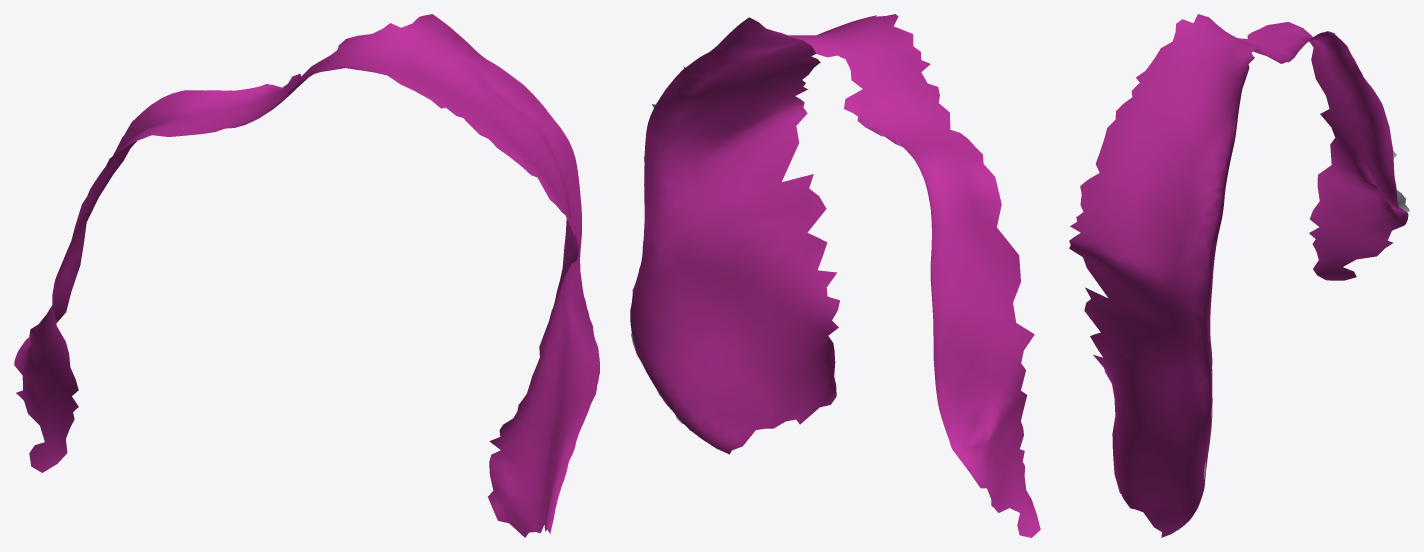
Rendered from Caries_2_N.glb.
3 views of the same model, side by side, from view 1: azimuth 30°, elevation 25°; view 2: azimuth 150°, elevation 25°; view 3: azimuth 270°, elevation 25° (orthographic). The views are drawn at different scales.
Parts seen in each view (by area): view 1: enml.002; view 2: enml.002; view 3: enml.002.
Boxes of the visible parts, <box> form: enml.002: <box>14,14,599,537</box>; enml.002: <box>630,14,1040,537</box>; enml.002: <box>1069,14,1409,537</box>.
Size of the model in its own units: 5.34 by 5.23 by 3.68.
